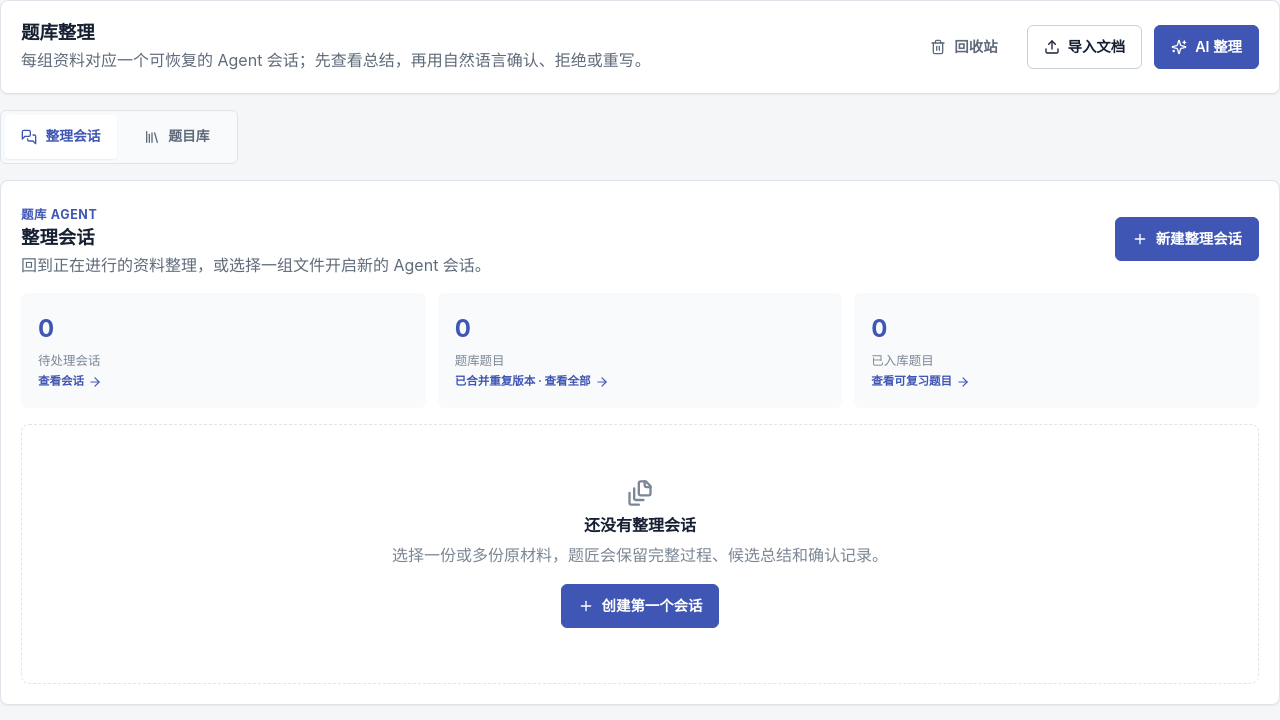
Scenario: QuestionCatalog › opens publication approval in the current viewport instead of below the library
The width and height of the screenshot is (1280, 720).
Click the tab "题目库" at (177, 137), box [121,115,233,159]
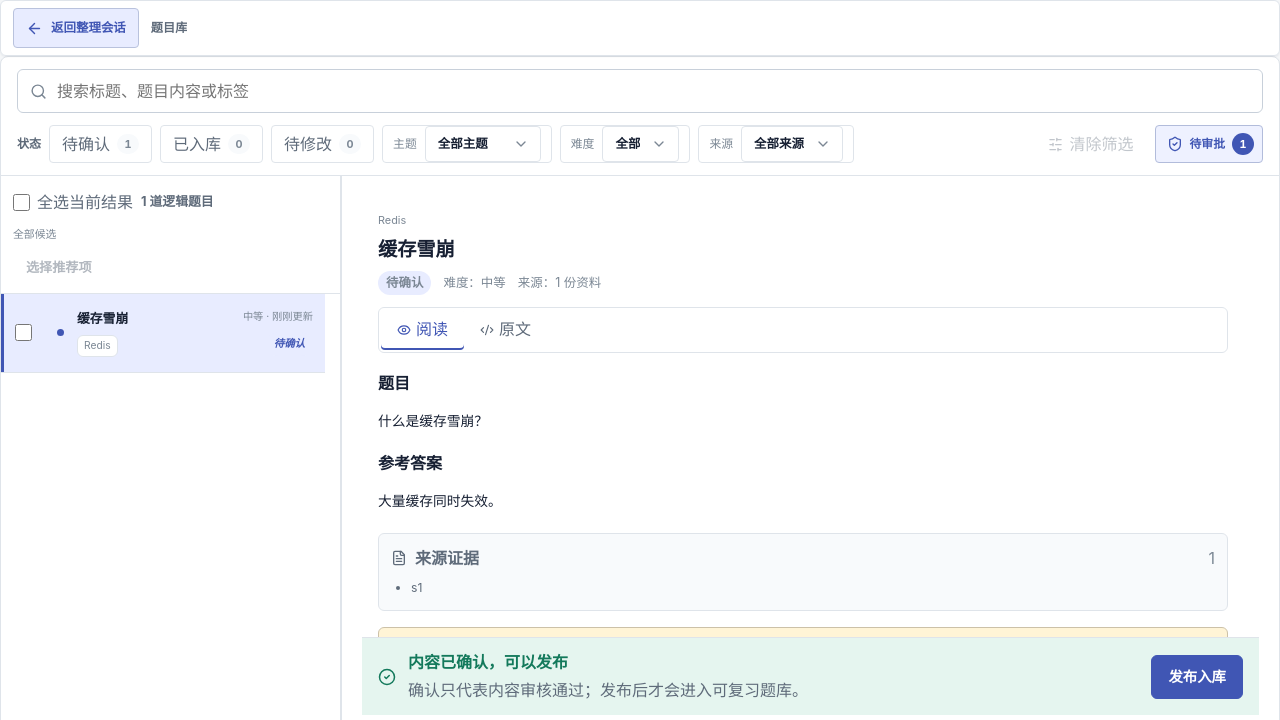
Click the button "发布入库" at (1197, 677), box [1151,655,1243,699]
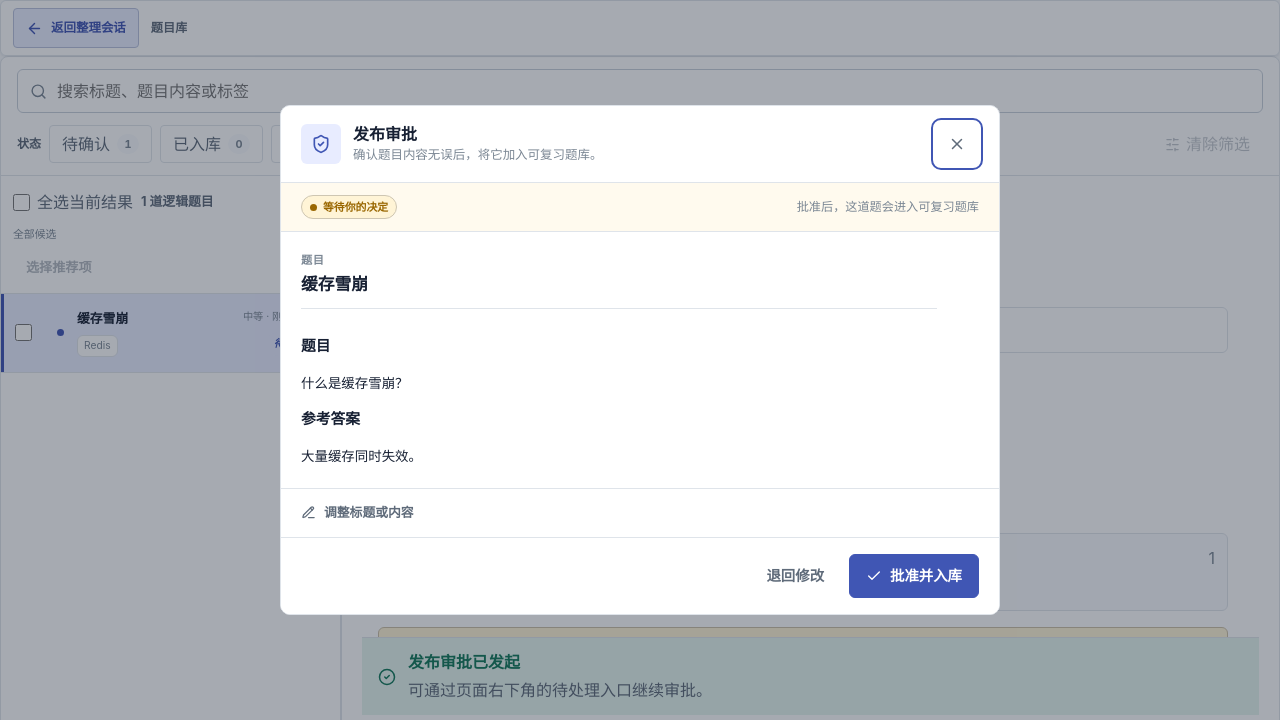
Now the heading "发布审批" is shown, box [353,124,417,144]
Now the text "缓存雪崩" is shown, box [301,274,368,294]
Now the button "批准并入库" is shown, box [849,554,979,598]
Click the button named "关闭发布审批" at (957, 144), box [935,122,979,166]
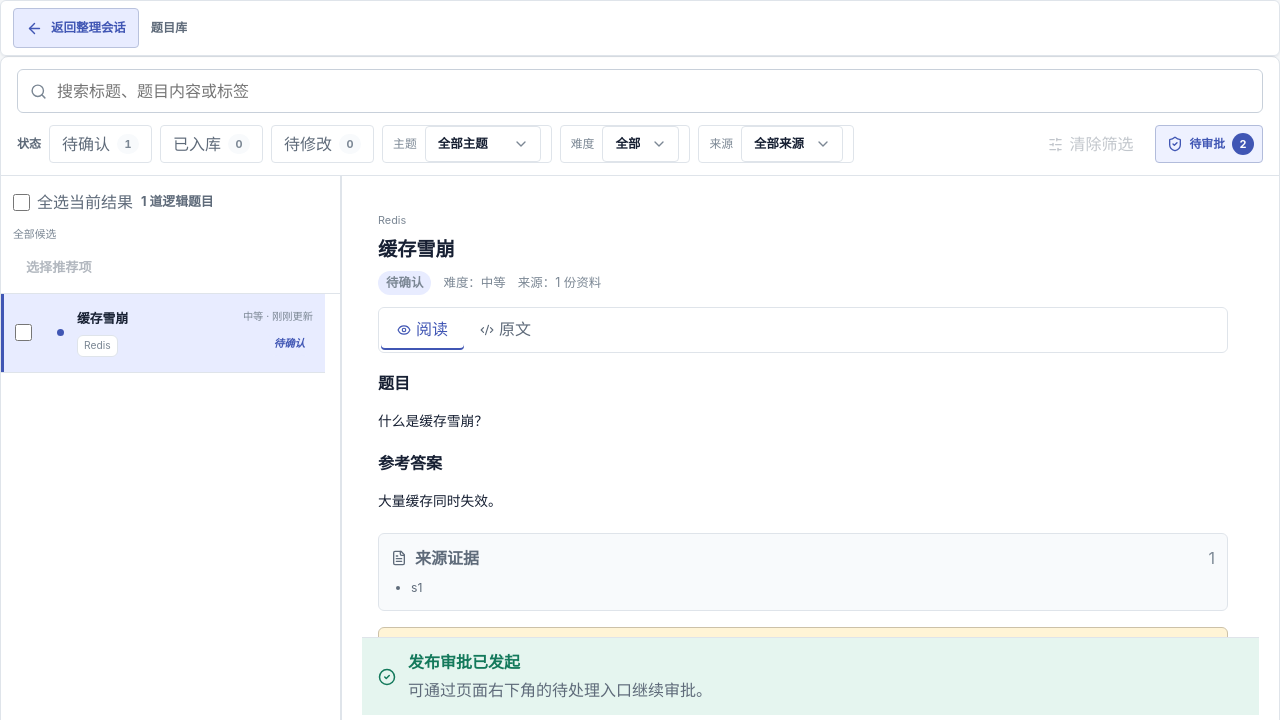
Now the element named "打开待审批发布任务，共 2 项" is shown, box [17,125,1263,163]
Now the dialog "题目发布审批" is gone
Now the button with aria-label "打开待审批发布任务，共 2 项" is shown
Click the button with aria-label "打开待审批发布任务，共 2 项" at (1209, 144), box [1154,125,1263,163]
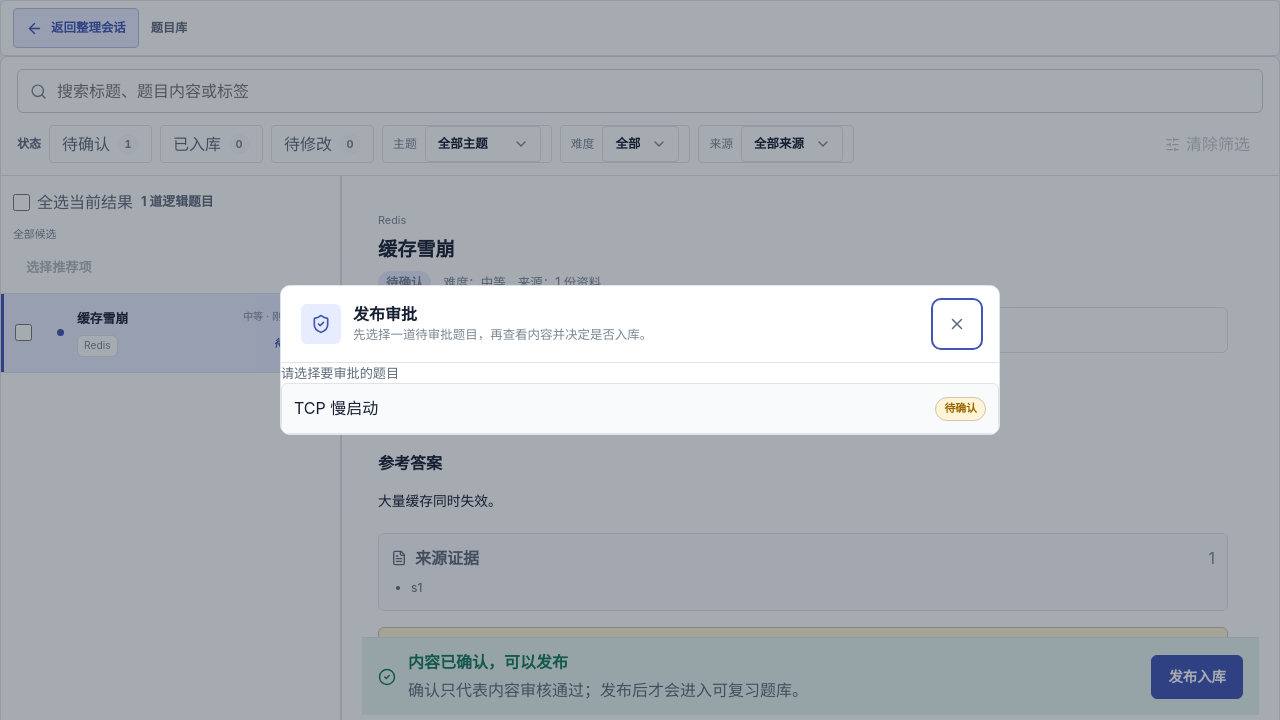
Expected: the button "批准并入库" is not shown
Now the text "请选择要审批的题目" is shown, box [281,365,399,381]
Click the button "TCP 慢启动 待确认" at (336, 408), box [281,383,999,434]
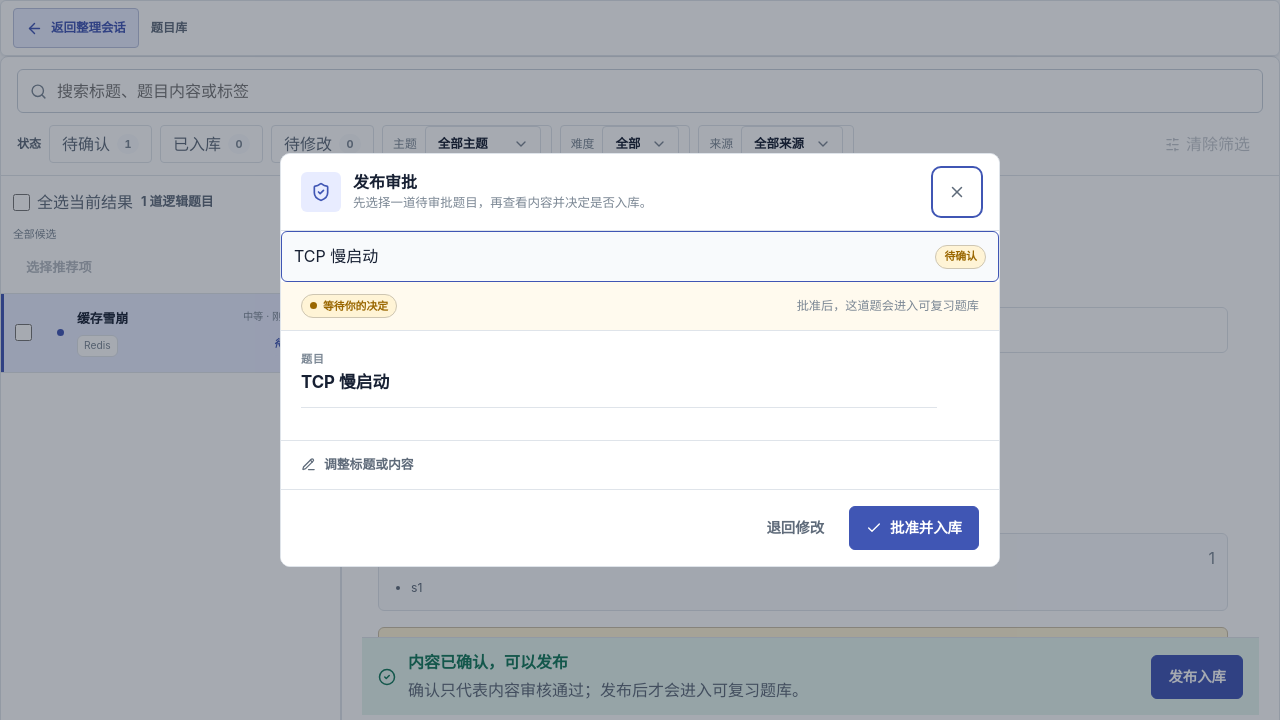
Now the 1st text "TCP 慢启动" is shown, box [294,244,378,269]
Now the button "批准并入库" is shown, box [849,506,979,550]
